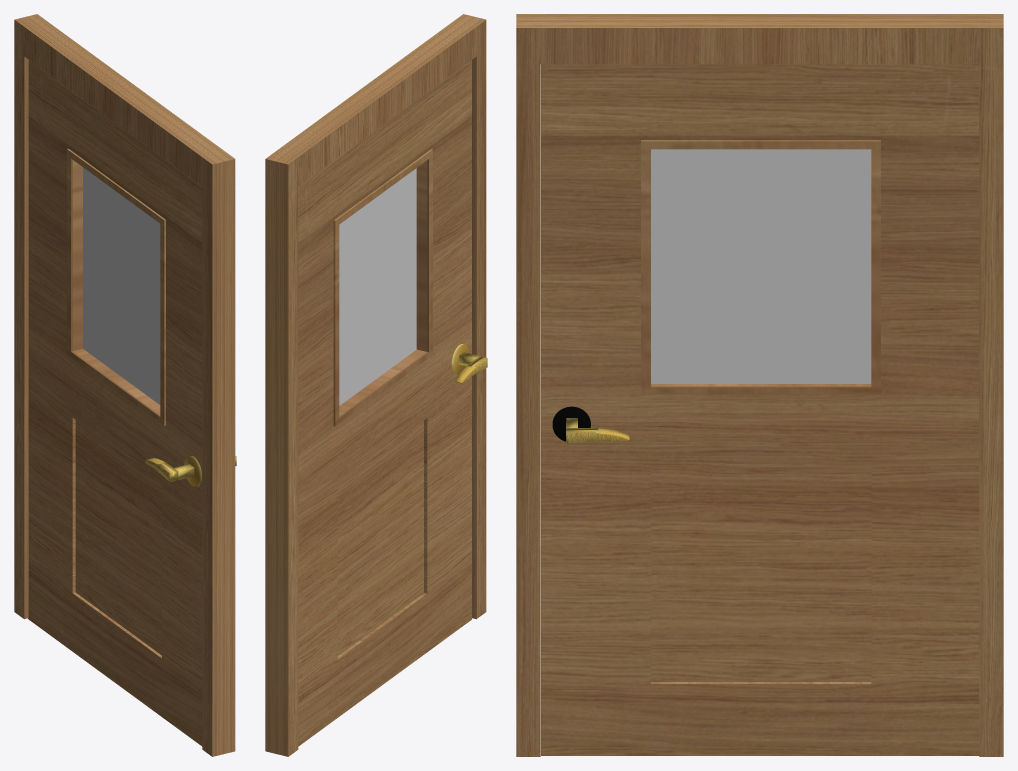
File: 夜更かしdoa-2.fbx
3 views of the same model, side by side, from view 1: azimuth 30°, elevation 25°; view 2: azimuth 150°, elevation 25°; view 3: azimuth 270°, elevation 25° (orthographic). The views are drawn at different scales.
Parts seen in each view (by area): view 1: ドア.002, ドア枠; view 2: ドア.002, ドア枠; view 3: ドア.002, ドア枠.
Boxes of the visible parts, left/top/right/bottom form: ドア.002: left=28, top=60, right=236, bottom=746; ドア枠: left=14, top=14, right=235, bottom=756; ドア.002: left=298, top=60, right=487, bottom=746; ドア枠: left=265, top=14, right=486, bottom=756; ドア.002: left=541, top=64, right=979, bottom=755; ドア枠: left=516, top=14, right=1003, bottom=756.
Bounding box in the file's own units: 144 × 1212 × 732.
7 materials, 5 textured.
